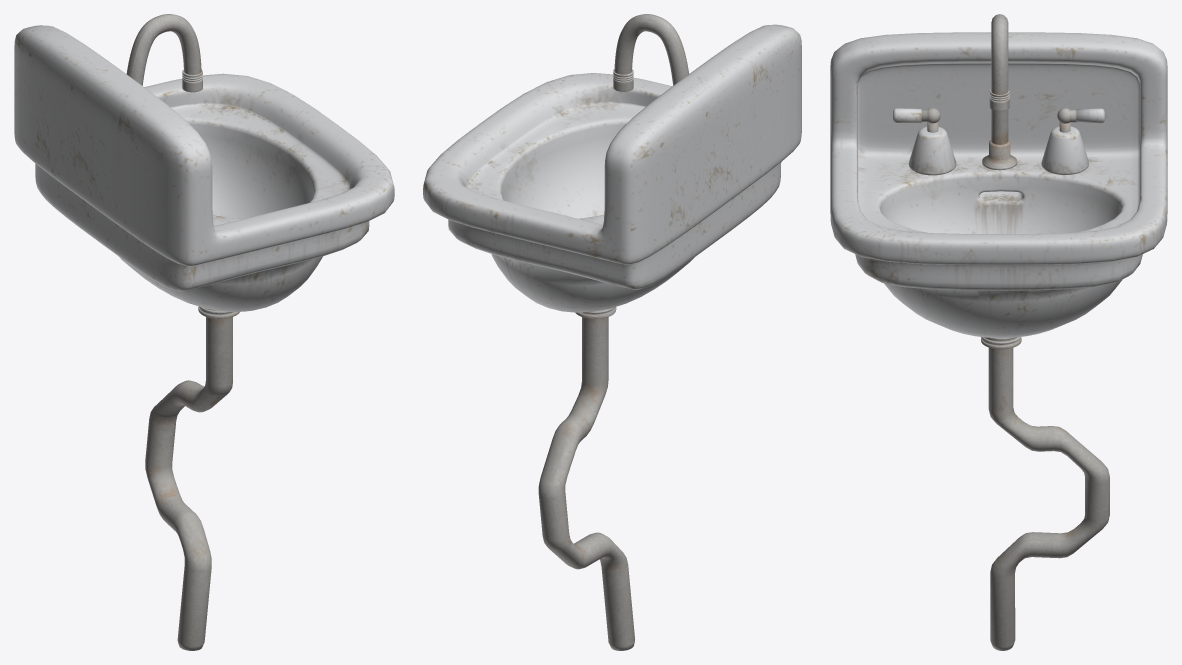
The model's file is rustic_sink.glb.
3 views of the same model, side by side, from view 1: azimuth 30°, elevation 25°; view 2: azimuth 150°, elevation 25°; view 3: azimuth 270°, elevation 25° (orthographic). The views are drawn at different scales.
Parts seen in each view (by area): view 1: Cube, NurbsPath; view 2: Cube, NurbsPath; view 3: Cube, NurbsPath.
Boxes of the visible parts, box(x1,y1,x2,y2) form: Cube: box(14, 25, 394, 312); NurbsPath: box(126, 14, 239, 650); Cube: box(423, 24, 801, 312); NurbsPath: box(538, 14, 688, 650); Cube: box(830, 32, 1167, 338); NurbsPath: box(921, 14, 1109, 650).
Bounding box in the file's own units: 2.09 × 5.17 × 2.56.
Materials: 2 (2 with a texture image).
